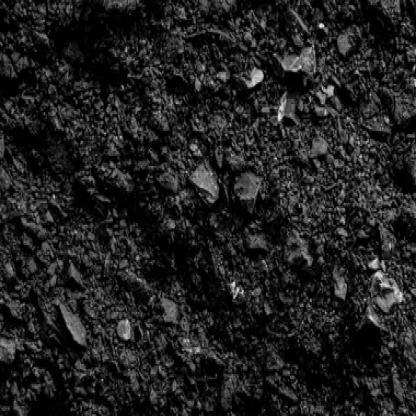Sedimentary_coal: (362, 265, 408, 330), (280, 34, 322, 86), (190, 151, 224, 206), (60, 297, 90, 354), (235, 167, 263, 214), (285, 223, 312, 267), (339, 16, 367, 58), (153, 290, 181, 331), (63, 248, 88, 289), (235, 60, 265, 90), (331, 265, 348, 297)
